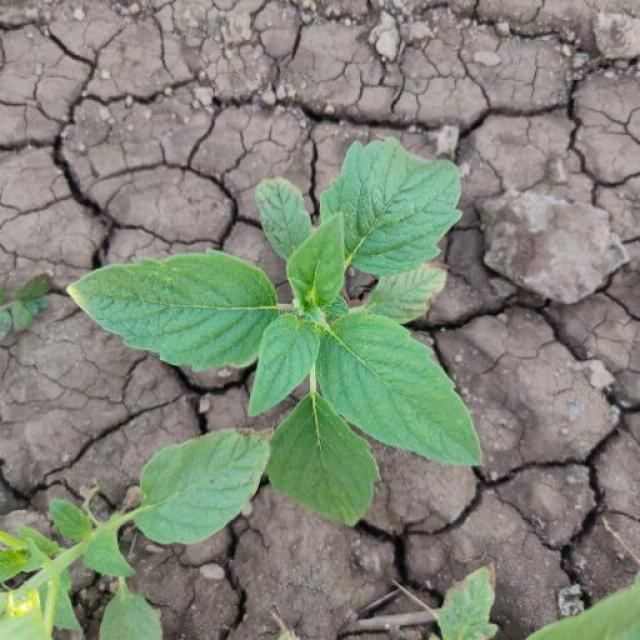crop: (61, 118, 518, 536)
